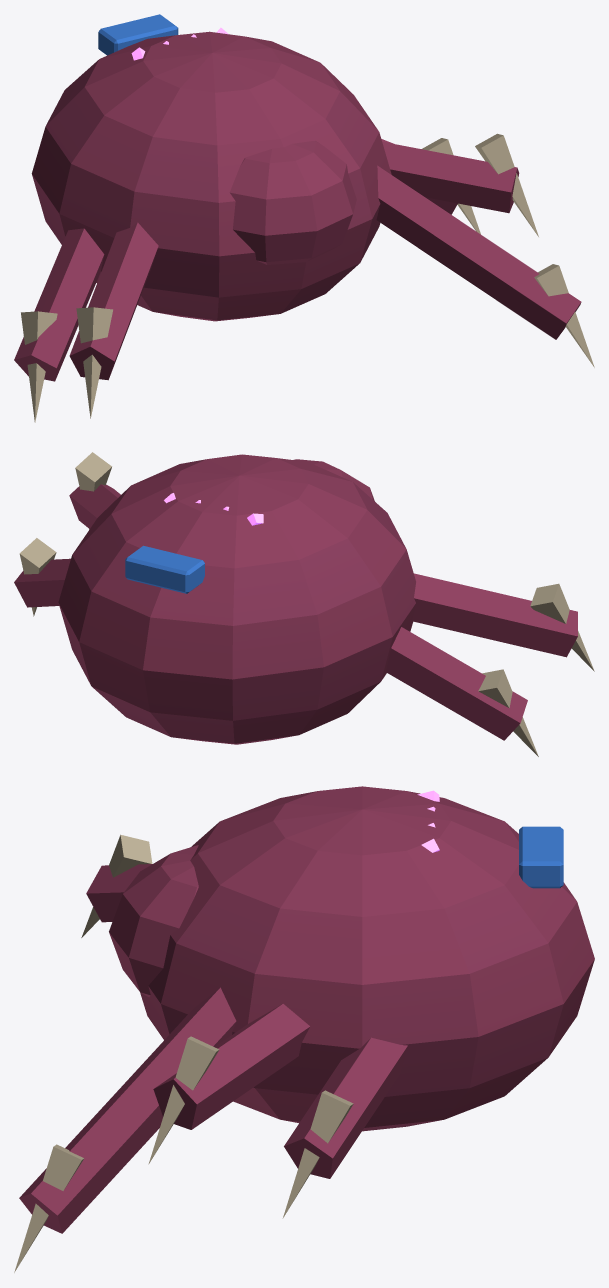
File: creature.glb
The picture shows the model from 3 angles, top to bottom: view 1: azimuth 30°, elevation 25°; view 2: azimuth 150°, elevation 25°; view 3: azimuth 270°, elevation 25°; orthographic projection. The views are drawn at different scales.
Parts seen in each view (by area): view 1: creature; view 2: creature; view 3: creature.
Part boxes in pixels (bbox=[...]): creature: bbox=[14, 14, 594, 422]; creature: bbox=[14, 452, 594, 756]; creature: bbox=[14, 786, 594, 1272].
Bounding box in the file's own units: 0.9014 × 0.4789 × 0.7791.
